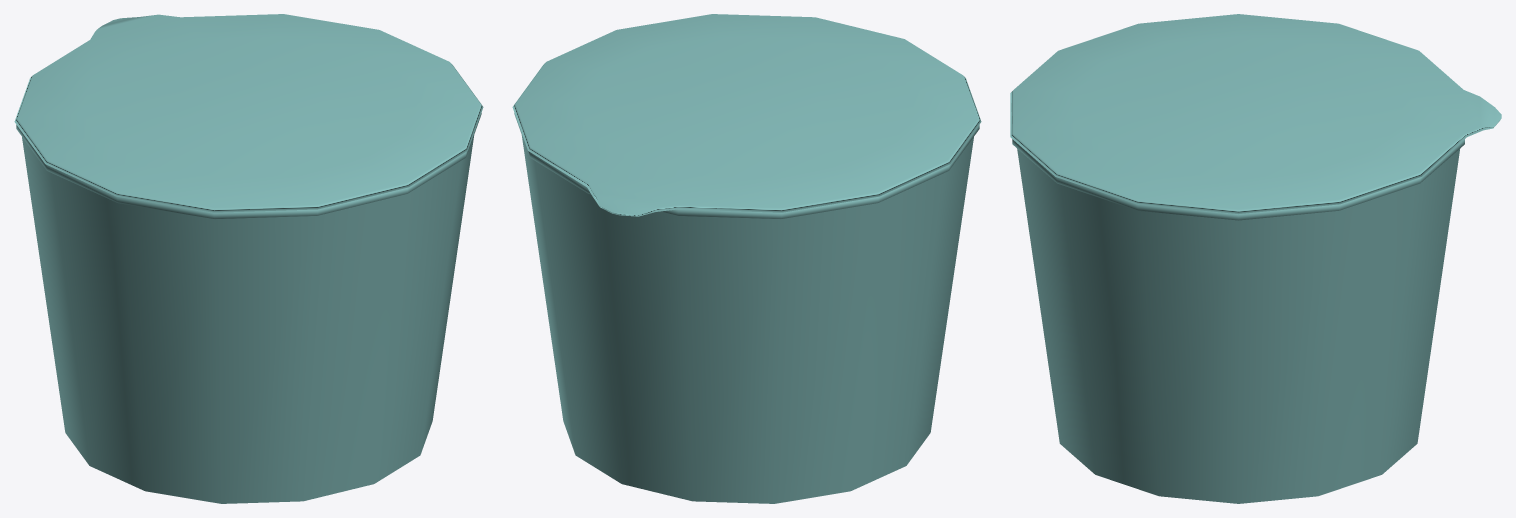
The model's file is instant noodles.fbx.
3 renders of one model, left to right at view 1: azimuth 30°, elevation 25°; view 2: azimuth 150°, elevation 25°; view 3: azimuth 270°, elevation 25°, orthographic.
Visible parts, largest first — view 1: pCylinder4; view 2: pCylinder4; view 3: pCylinder4.
Boxes of the visible parts, x1,y1,x2,y2 form: pCylinder4: (14,14,483,503); pCylinder4: (512,14,981,503); pCylinder4: (1010,14,1501,503).
Bounding box in the file's own units: 0.2495 × 0.1889 × 0.2617.
